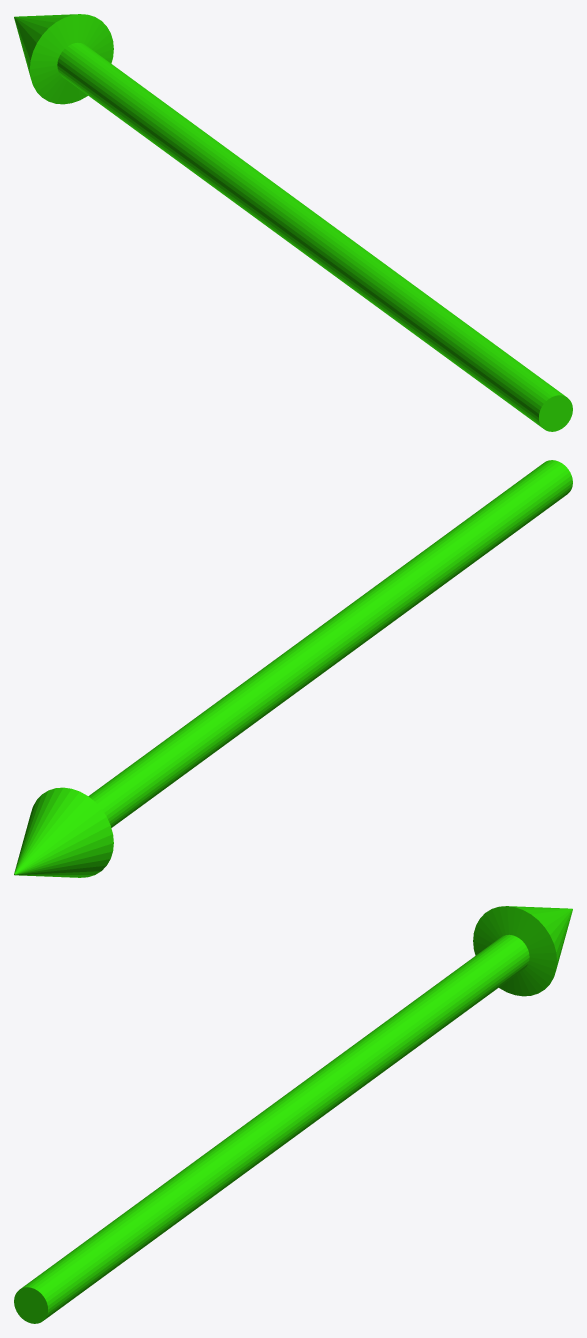
The model's file is eixo_y.fbx.
3 renders of one model, top to bottom at view 1: azimuth 30°, elevation 25°; view 2: azimuth 150°, elevation 25°; view 3: azimuth 330°, elevation 25°, orthographic.
Visible parts, largest first — view 1: Cylinder; view 2: Cylinder; view 3: Cylinder.
Boxes of the visible parts, left/top/right/bottom form: Cylinder: left=14, top=14, right=572, bottom=431; Cylinder: left=14, top=460, right=572, bottom=877; Cylinder: left=14, top=906, right=572, bottom=1323.
Size of the model in its own units: 88.67 by 88.67 by 988.
